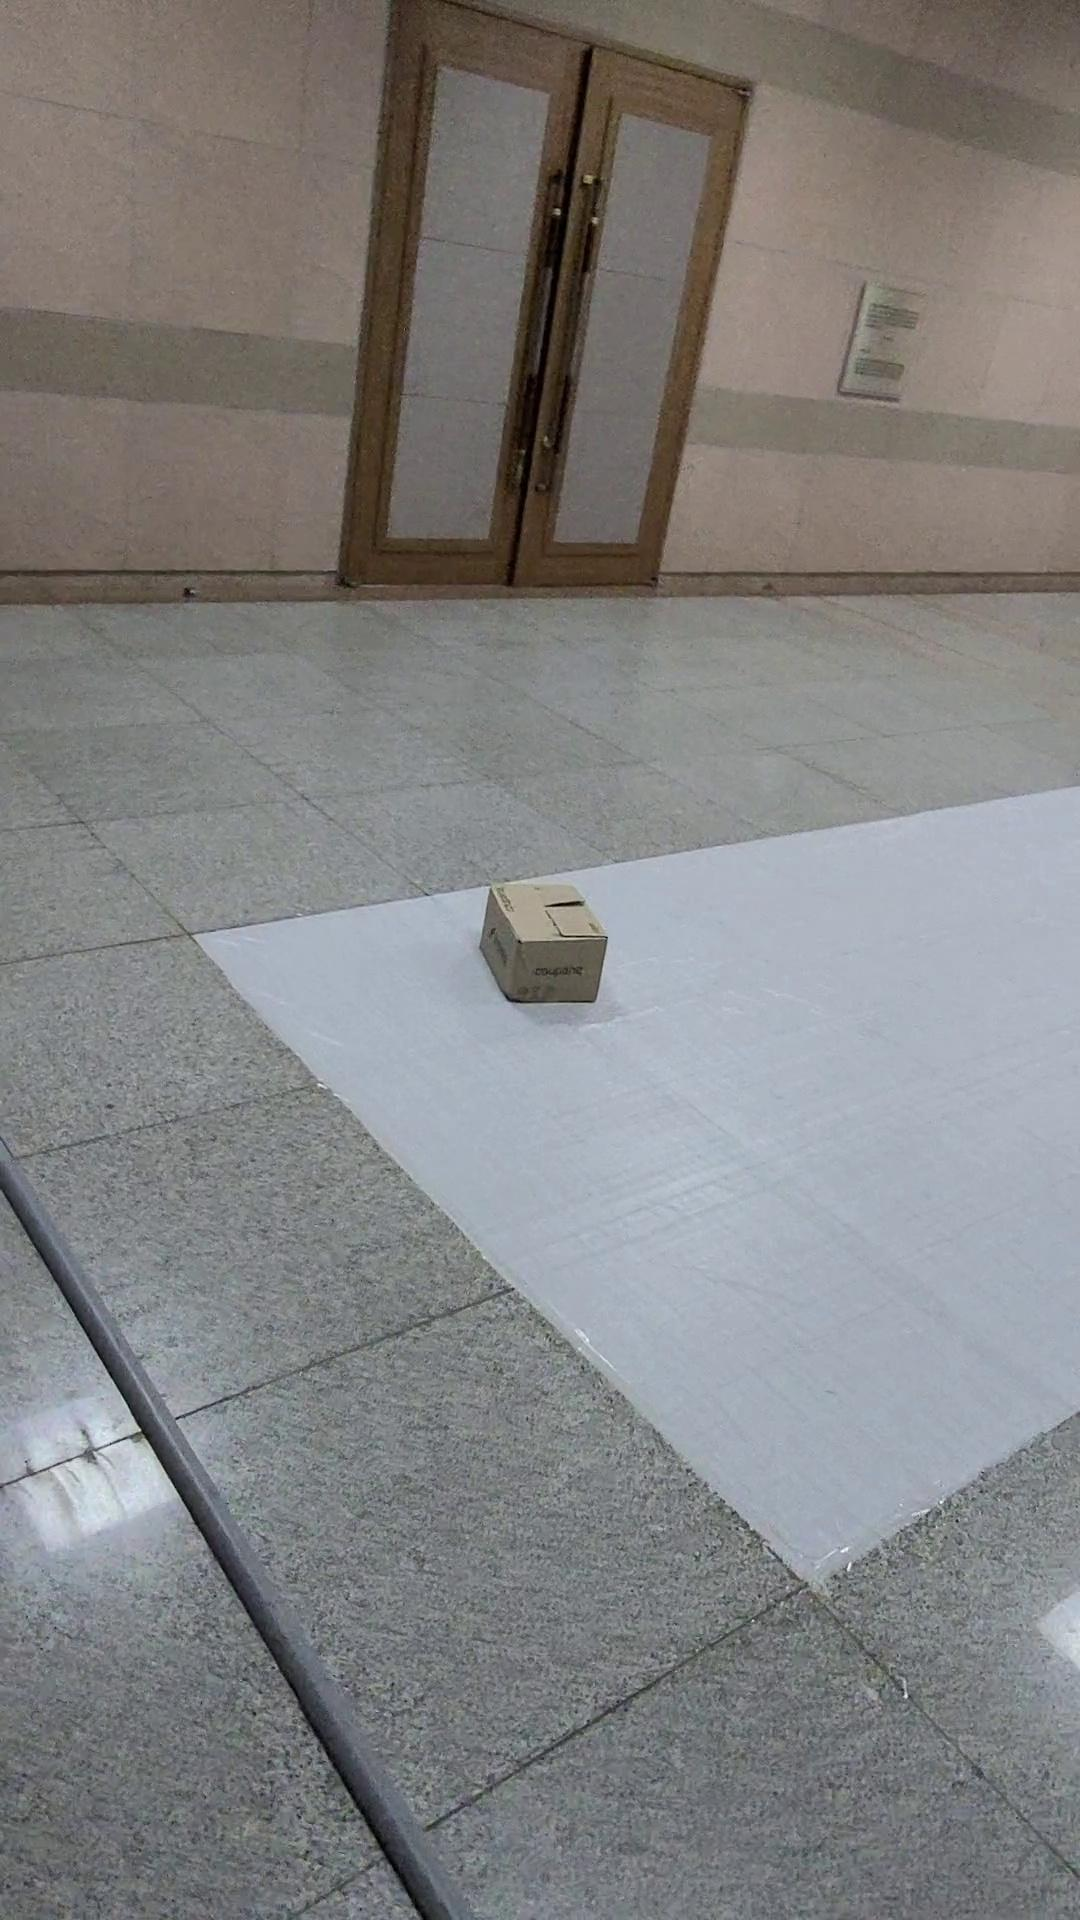Box: (438, 843, 673, 1054)
